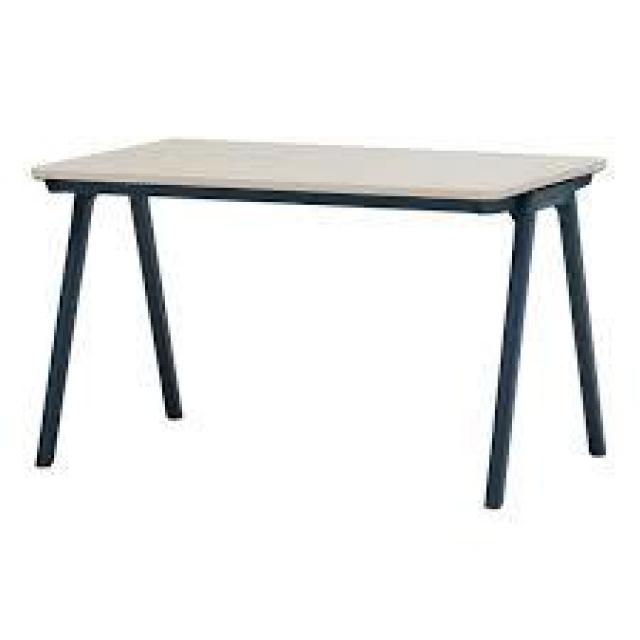table: (21, 88, 619, 526)
